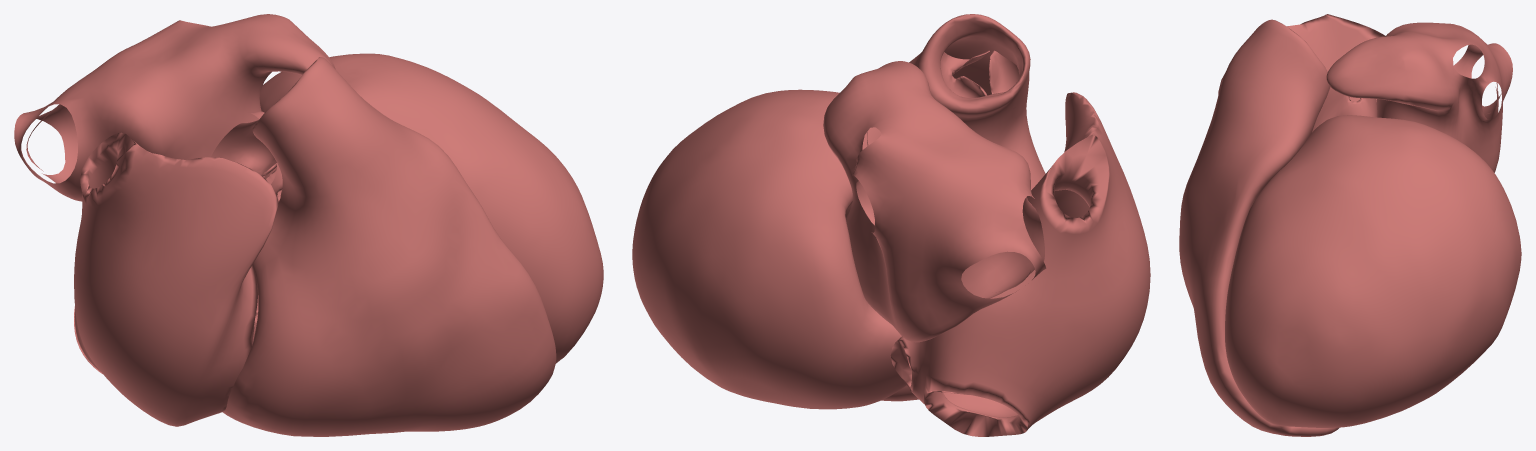
File: vh_f_heart-80.glb
3 views of the same model, side by side, from view 1: azimuth 30°, elevation 25°; view 2: azimuth 150°, elevation 25°; view 3: azimuth 270°, elevation 25° (orthographic). The views are drawn at different scales.
Parts seen in each view (by area): view 1: VH_F_right_ventricle, VH_F_right_cardiac_atrium, VH_F_left_ventricle, VH_F_left_cardiac_atrium, VH_F_aortic_valve; view 2: VH_F_left_ventricle, VH_F_right_cardiac_atrium, VH_F_left_cardiac_atrium, VH_F_right_ventricle, VH_F_pulmonary_valve; view 3: VH_F_left_ventricle, VH_F_right_ventricle, VH_F_left_cardiac_atrium, VH_F_right_cardiac_atrium, VH_F_aortic_valve.
Boxes of the visible parts, x1=… form: VH_F_right_ventricle: x1=222, y1=57, x2=556, y2=436; VH_F_right_cardiac_atrium: x1=74, y1=132, x2=278, y2=426; VH_F_left_ventricle: x1=259, y1=53, x2=603, y2=363; VH_F_left_cardiac_atrium: x1=14, y1=14, x2=335, y2=201; VH_F_aortic_valve: x1=211, y1=111, x2=282, y2=202; VH_F_left_ventricle: x1=632, y1=89, x2=906, y2=409; VH_F_right_cardiac_atrium: x1=890, y1=92, x2=1150, y2=436; VH_F_left_cardiac_atrium: x1=823, y1=61, x2=1046, y2=342; VH_F_right_ventricle: x1=881, y1=14, x2=1045, y2=401; VH_F_pulmonary_valve: x1=940, y1=50, x2=1019, y2=108; VH_F_left_ventricle: x1=1225, y1=115, x2=1521, y2=427; VH_F_right_ventricle: x1=1179, y1=19, x2=1339, y2=436; VH_F_left_cardiac_atrium: x1=1326, y1=22, x2=1512, y2=172; VH_F_right_cardiac_atrium: x1=1218, y1=14, x2=1385, y2=101; VH_F_aortic_valve: x1=1312, y1=87, x2=1377, y2=132.
Bounding box in the file's own units: 0.1425 × 0.11 × 0.1015.
